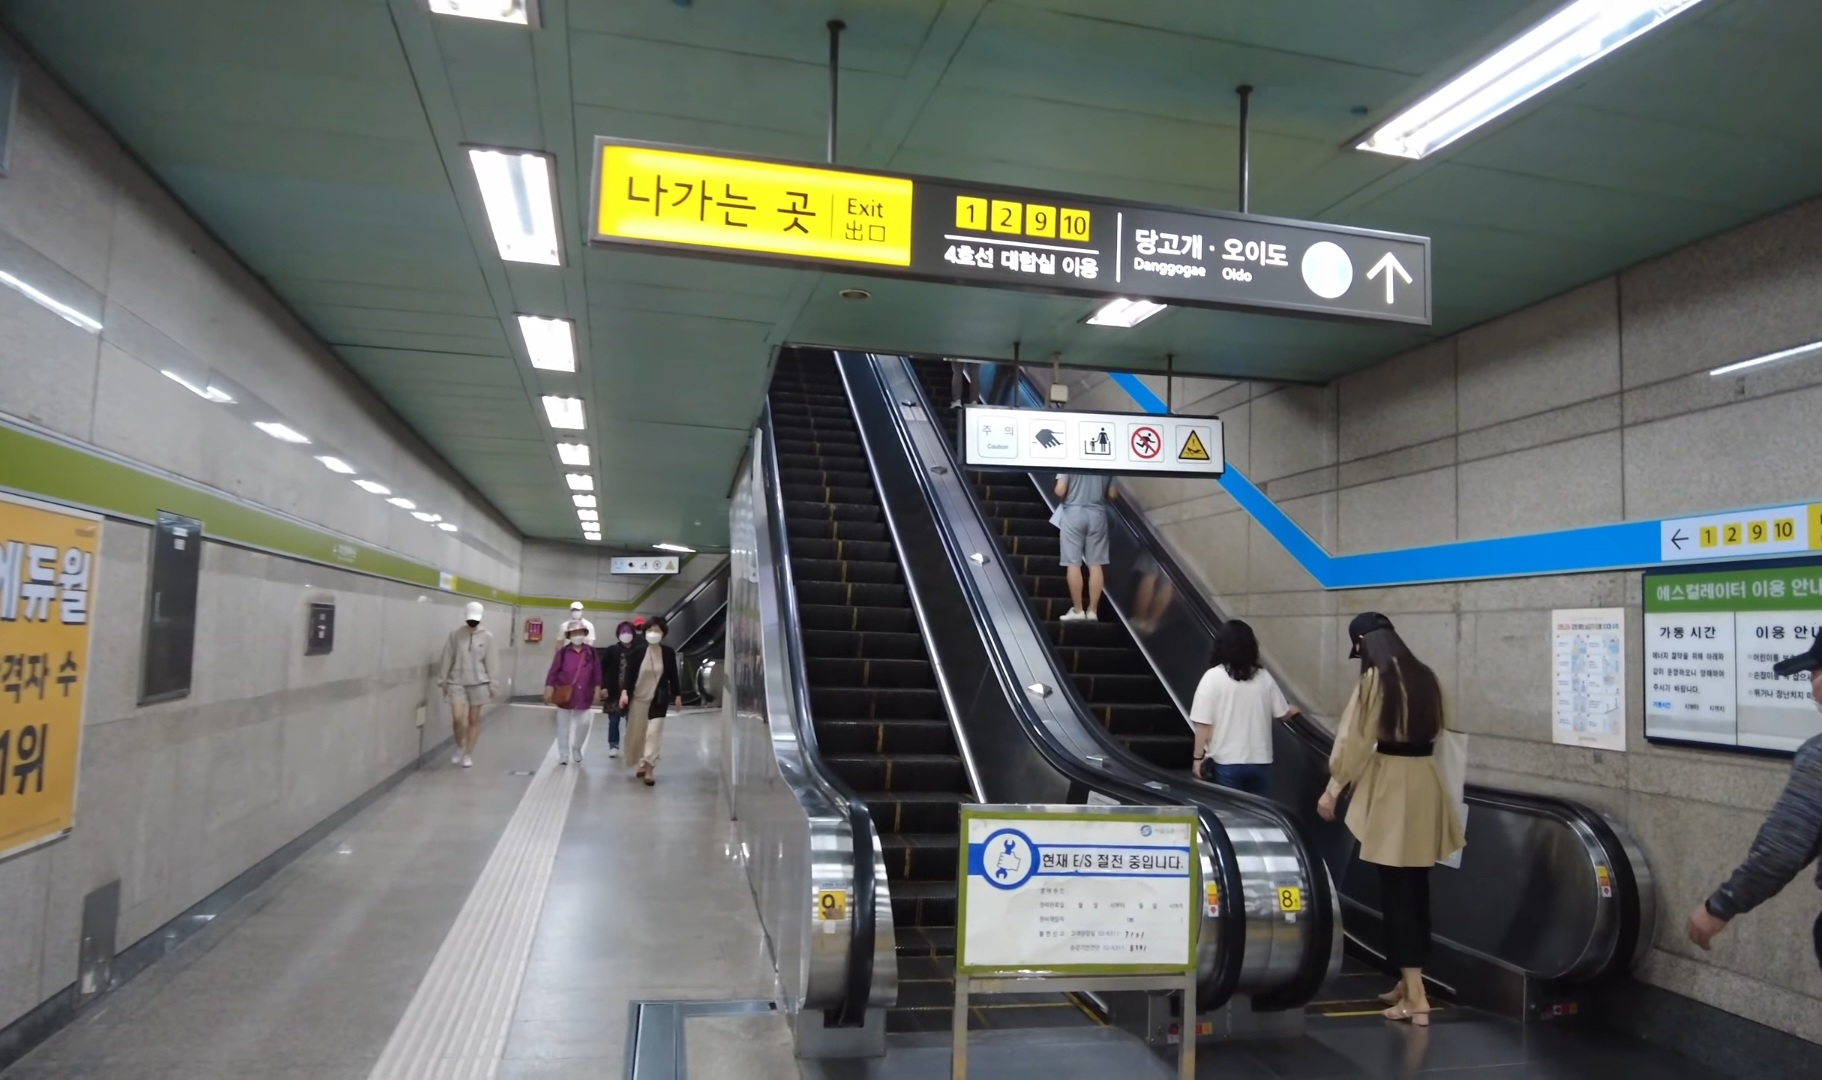signBoard: (577, 120, 1443, 337)
